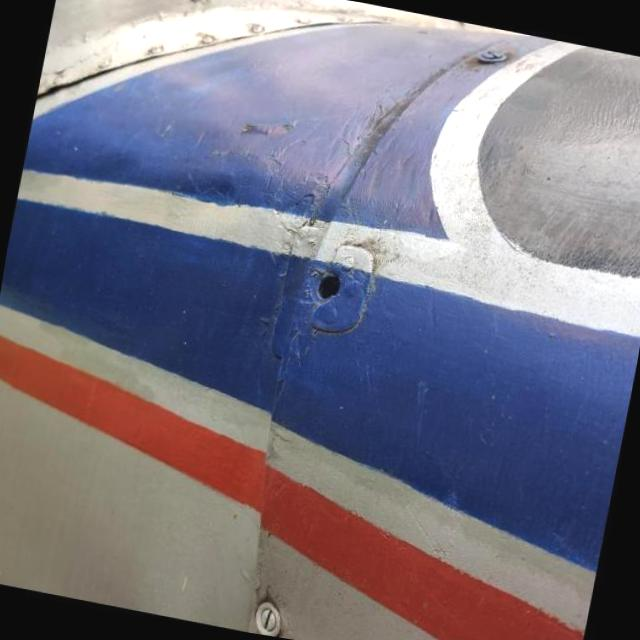Missing Fastener: (313, 266, 348, 304)
